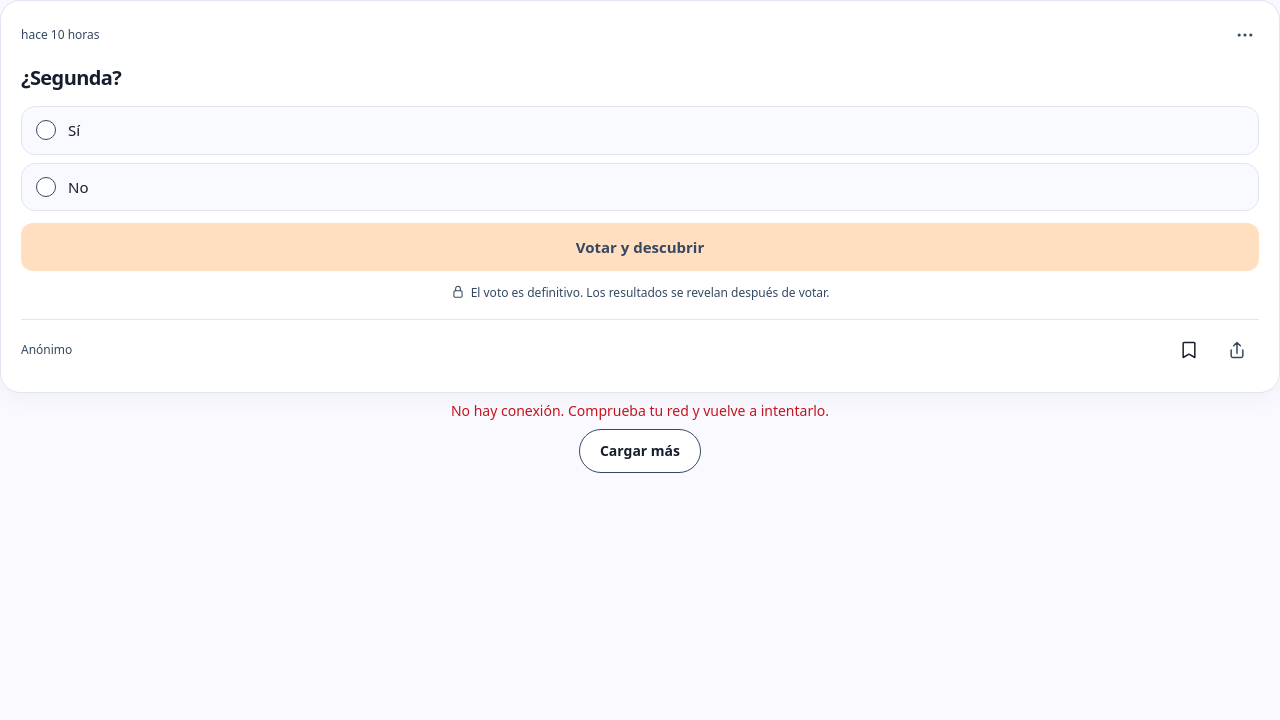
Test: FeedMore con scroll infinito › un fallo conserva las tarjetas, avisa y NO se repite solo aunque el final siga a la vista
Expected: the message "No hay conexión. Comprueba tu red y vuelve a intentarlo." is shown, [451,400,829,420]
Expected: the heading "¿Segunda?" is shown, [21,64,121,91]
Note: El usuario reintenta con el mismo botón.
Click the button "Cargar más": point(640, 450) [579,428,701,472]
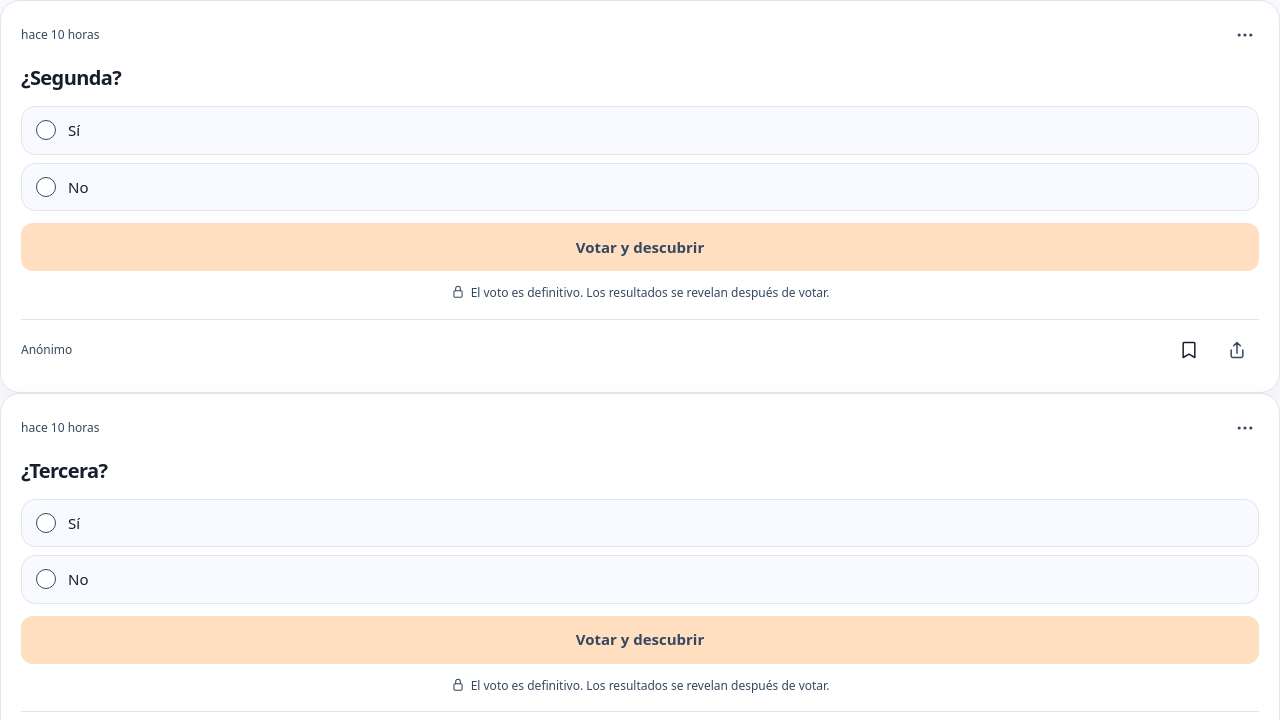
Result: the heading "¿Tercera?" is shown at [21,456,107,484]
Result: the message "No hay conexión. Comprueba tu red y vuelve a intentarlo." is gone
